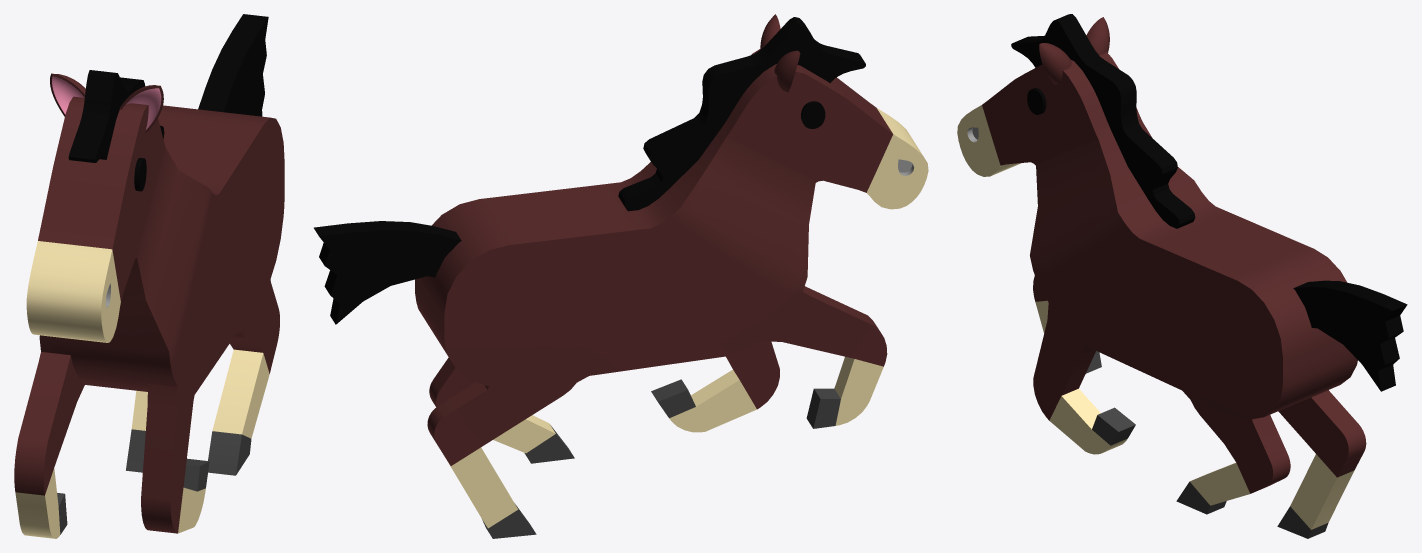
The model's file is horse.fbx.
3 views of the same model, side by side, from view 1: azimuth 30°, elevation 25°; view 2: azimuth 150°, elevation 25°; view 3: azimuth 270°, elevation 25° (orthographic). The views are drawn at different scales.
Parts seen in each view (by area): view 1: Plane.111, Plane.112, Cube.6211, Cube.6212, Circle.1880; view 2: Plane.111, Cube.6211, Plane.112, Cube.6212; view 3: Plane.111, Cube.6211, Plane.112, Cube.6212.
Part boxes in pixels (bbox=[...]): Plane.111: bbox=[14, 96, 284, 538]; Plane.112: bbox=[198, 14, 268, 116]; Cube.6211: bbox=[68, 70, 164, 162]; Cube.6212: bbox=[50, 73, 163, 132]; Circle.1880: bbox=[134, 157, 146, 191]; Plane.111: bbox=[415, 49, 928, 538]; Cube.6211: bbox=[618, 17, 865, 211]; Plane.112: bbox=[314, 221, 461, 324]; Cube.6212: bbox=[760, 14, 800, 92]; Plane.111: bbox=[957, 52, 1366, 538]; Cube.6211: bbox=[1011, 14, 1195, 228]; Plane.112: bbox=[1293, 280, 1407, 391]; Cube.6212: bbox=[1039, 17, 1109, 84].
Size of the model in its own units: 224 by 239 by 224.
1 material, 1 textured.
